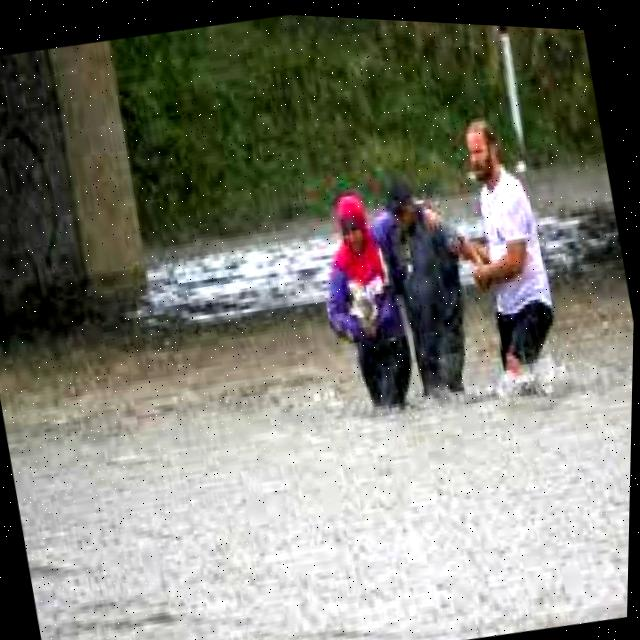civilian: (424, 91, 595, 422), (269, 164, 435, 435), (354, 160, 500, 439)
